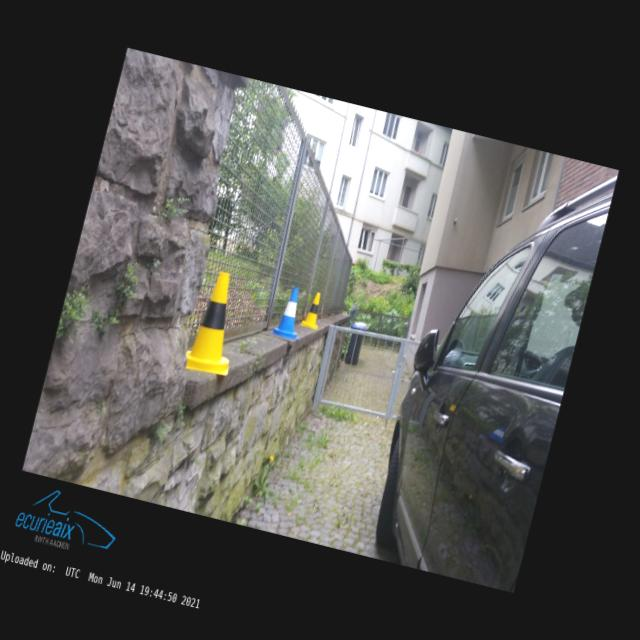blue_cone: (268, 284, 310, 340)
yellow_cone: (183, 268, 251, 377), (300, 290, 324, 330)
